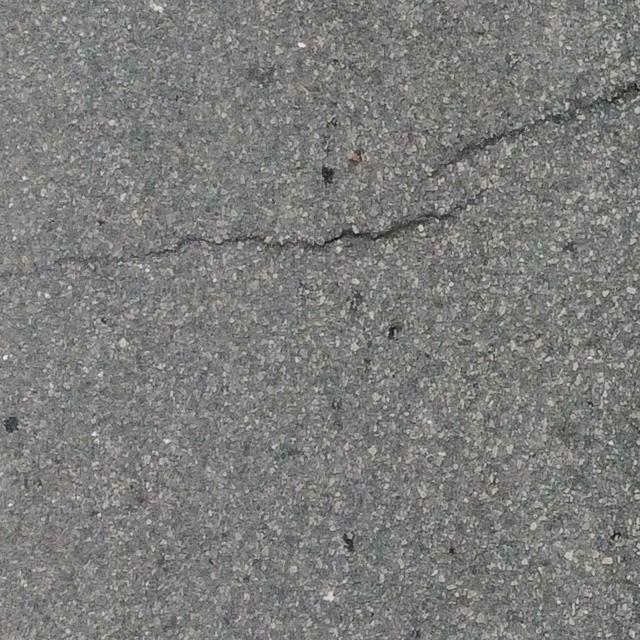TransverseCrack: (50, 194, 484, 271), (418, 83, 640, 180)
